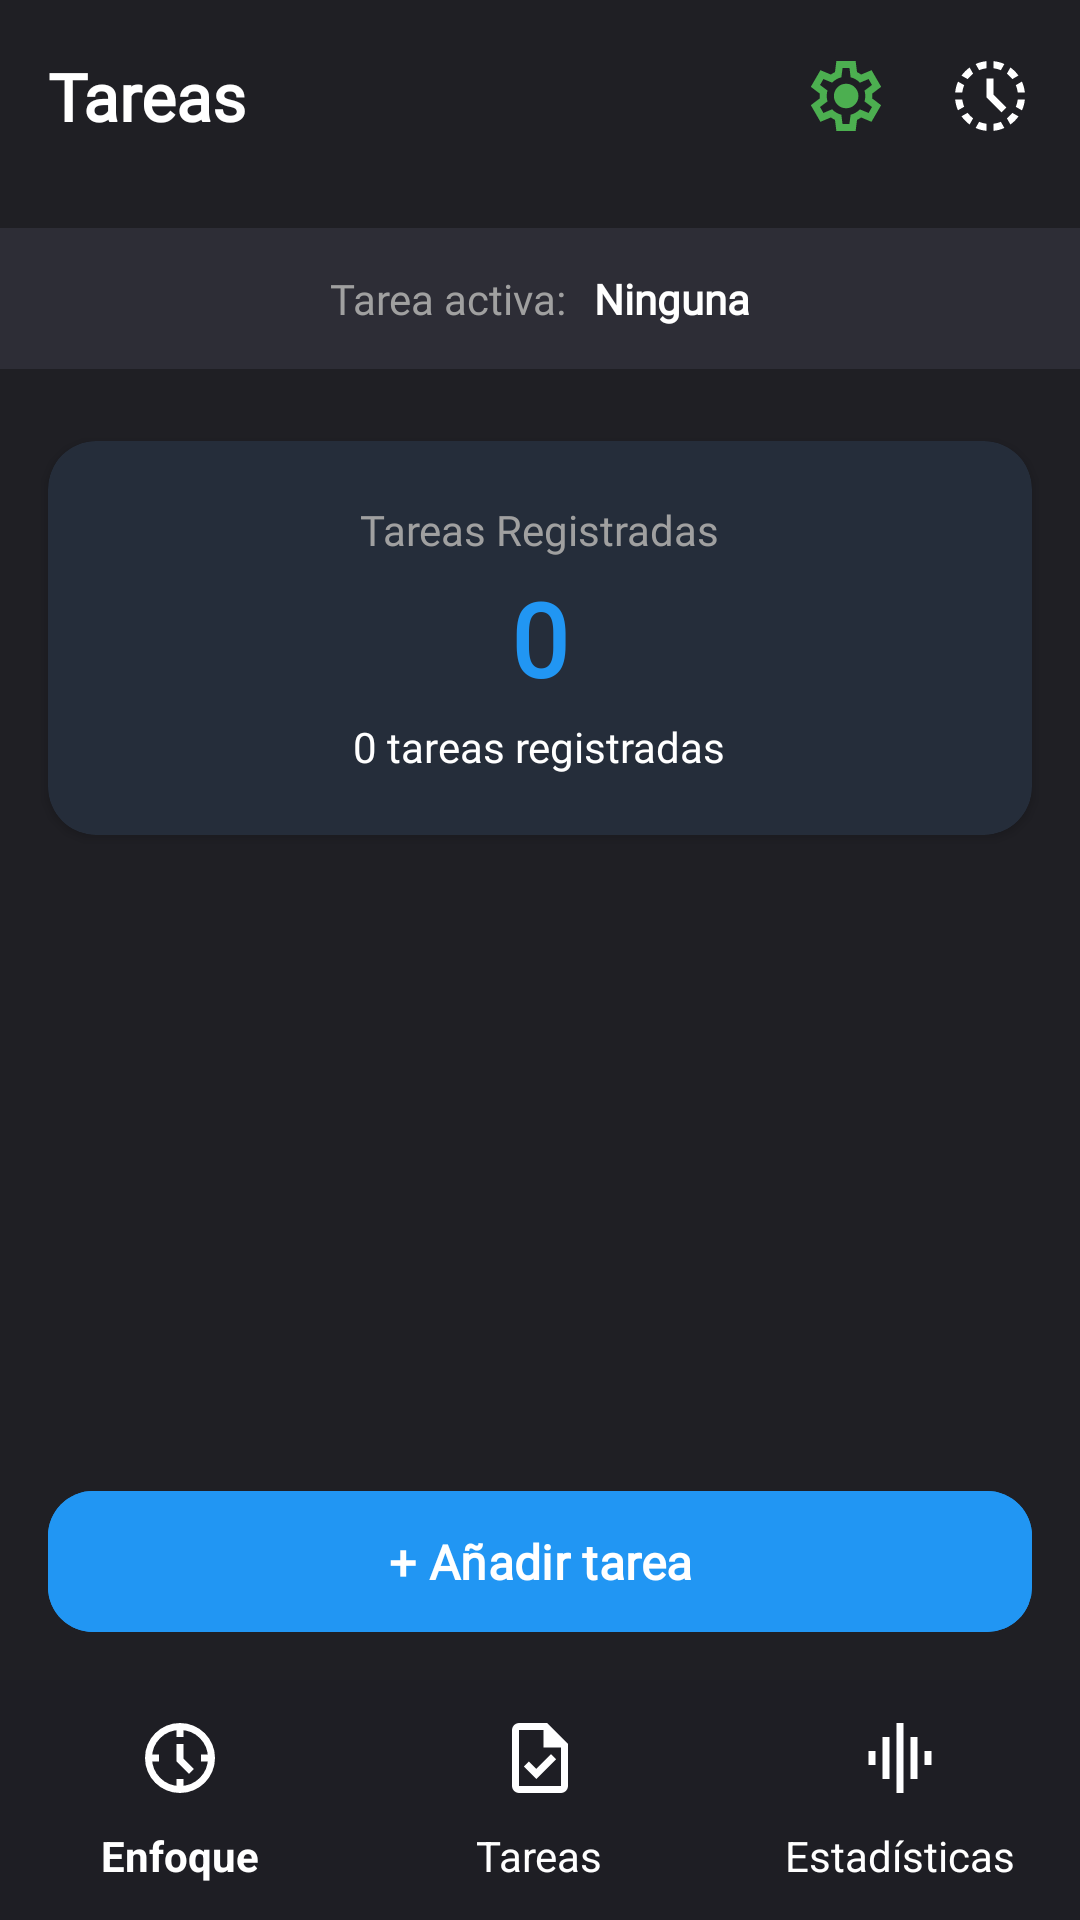

Point at icon controls on the screen. Image size 1080 x 1920, points as [x,y].
config general: [846,96]
configtiempo: [990,96]
